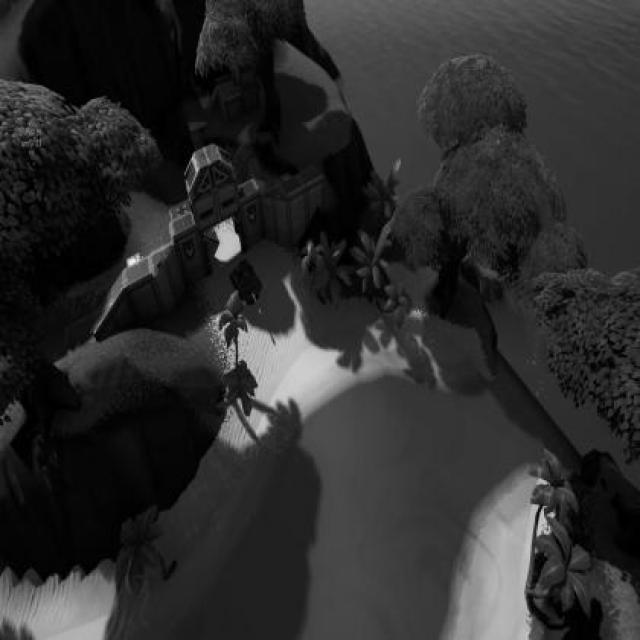tank: (230, 256, 264, 317)
